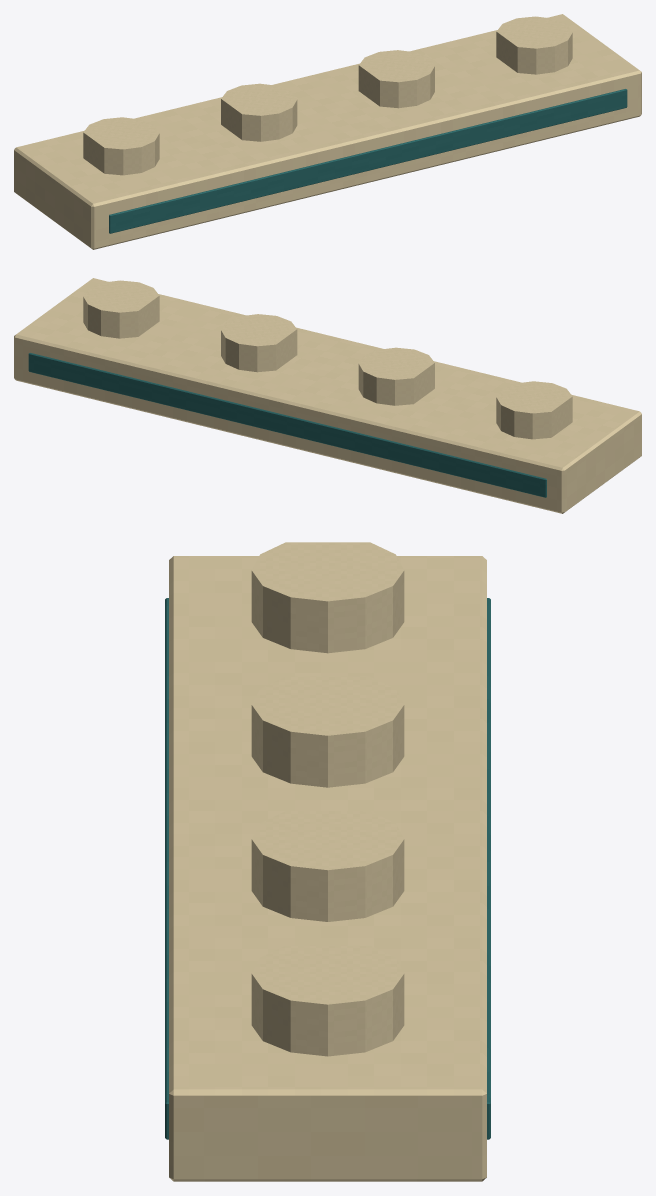
The model's file is beam-lod-1.glb.
3 views of the same model, one above another, from view 1: azimuth 30°, elevation 25°; view 2: azimuth 150°, elevation 25°; view 3: azimuth 270°, elevation 25° (orthographic). The views are drawn at different scales.
Visible parts, largest first — view 1: beam_lod_1; view 2: beam_lod_1; view 3: beam_lod_1.
Boxes of the visible parts, <box> form: beam_lod_1: <box>14,14,641,249</box>; beam_lod_1: <box>14,278,641,513</box>; beam_lod_1: <box>165,542,490,1181</box>.
Bounding box in the file's own units: 4 × 0.5 × 1.02.
Materials: 1 (1 with a texture image).
